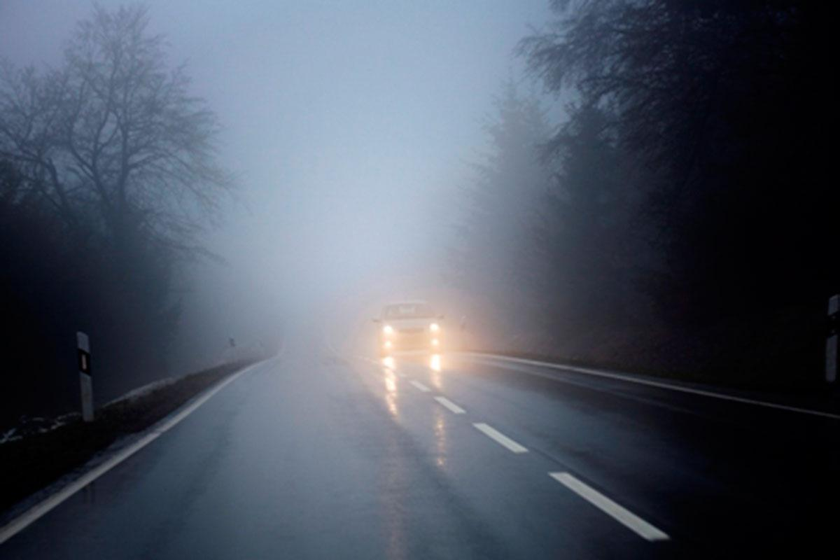car: (372, 302, 446, 356)
